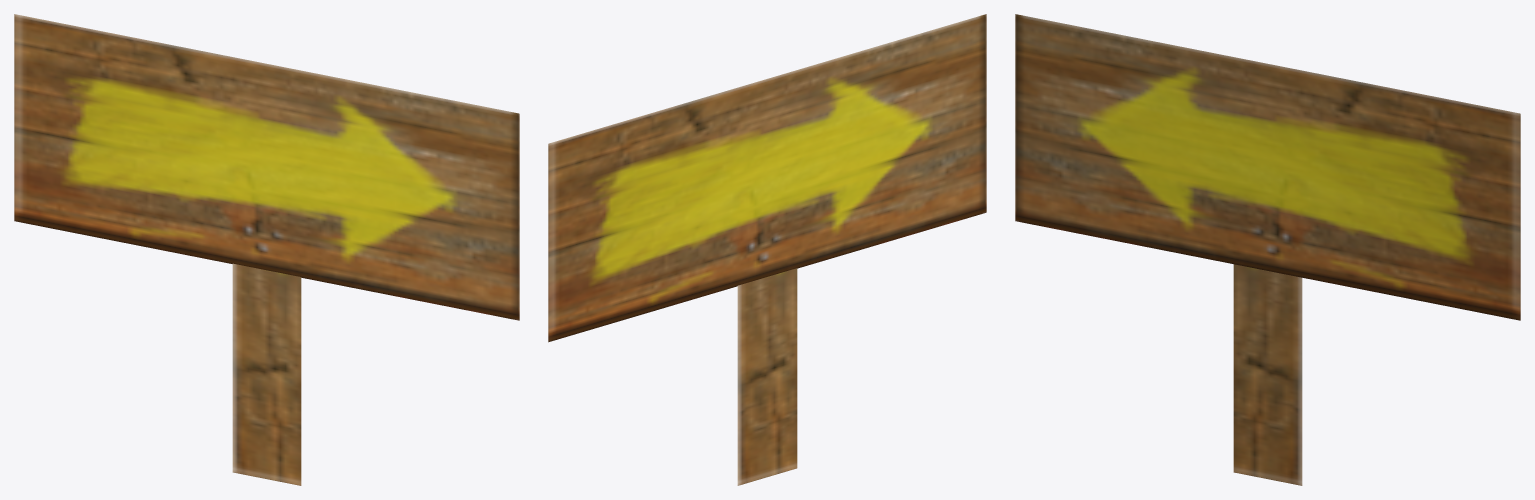
The model's file is rightway06.glb.
The picture shows the model from 3 angles, left to right: view 1: azimuth 90°, elevation 25°; view 2: azimuth 150°, elevation 25°; view 3: azimuth 270°, elevation 25°; orthographic projection. The views are drawn at different scales.
Visible parts, largest first — view 1: rightway06; view 2: rightway06; view 3: rightway06.
Part boxes in pixels (x1=…): rightway06: x1=14, y1=14, x2=519, y2=485; rightway06: x1=548, y1=14, x2=986, y2=485; rightway06: x1=1015, y1=14, x2=1520, y2=485.
Bounding box in the file's own units: 241 × 469 × 517.
Materials: 1 (1 with a texture image).
